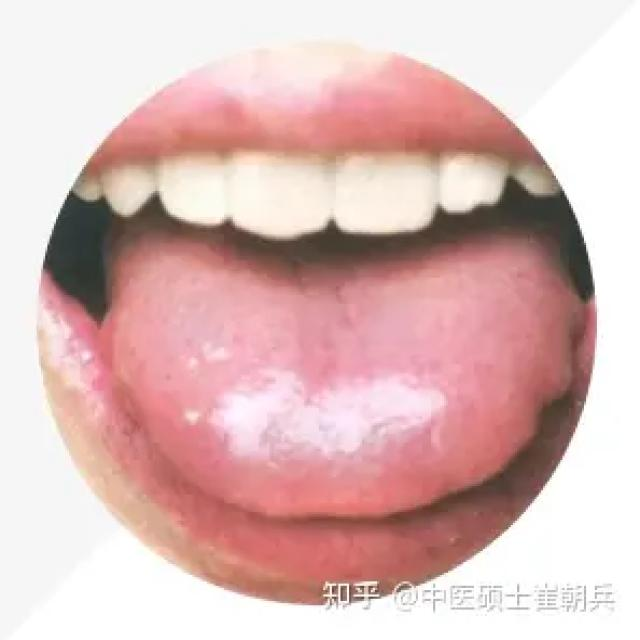tongue: (99, 233, 583, 521)
